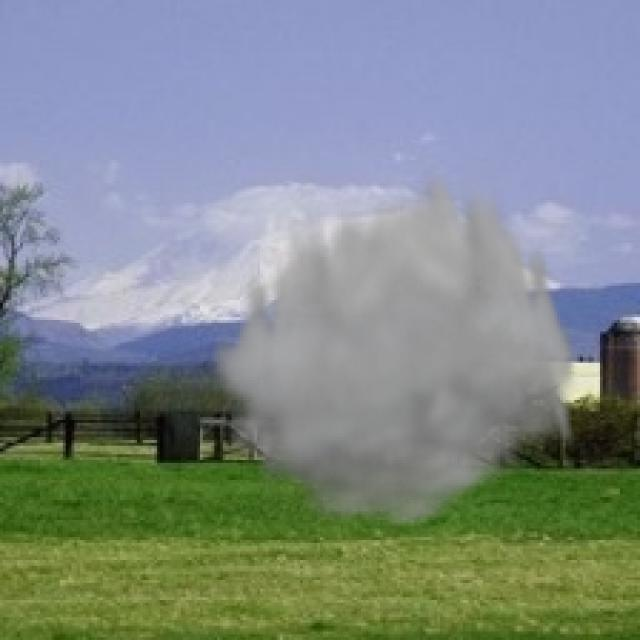Smoke: (205, 157, 580, 534)
